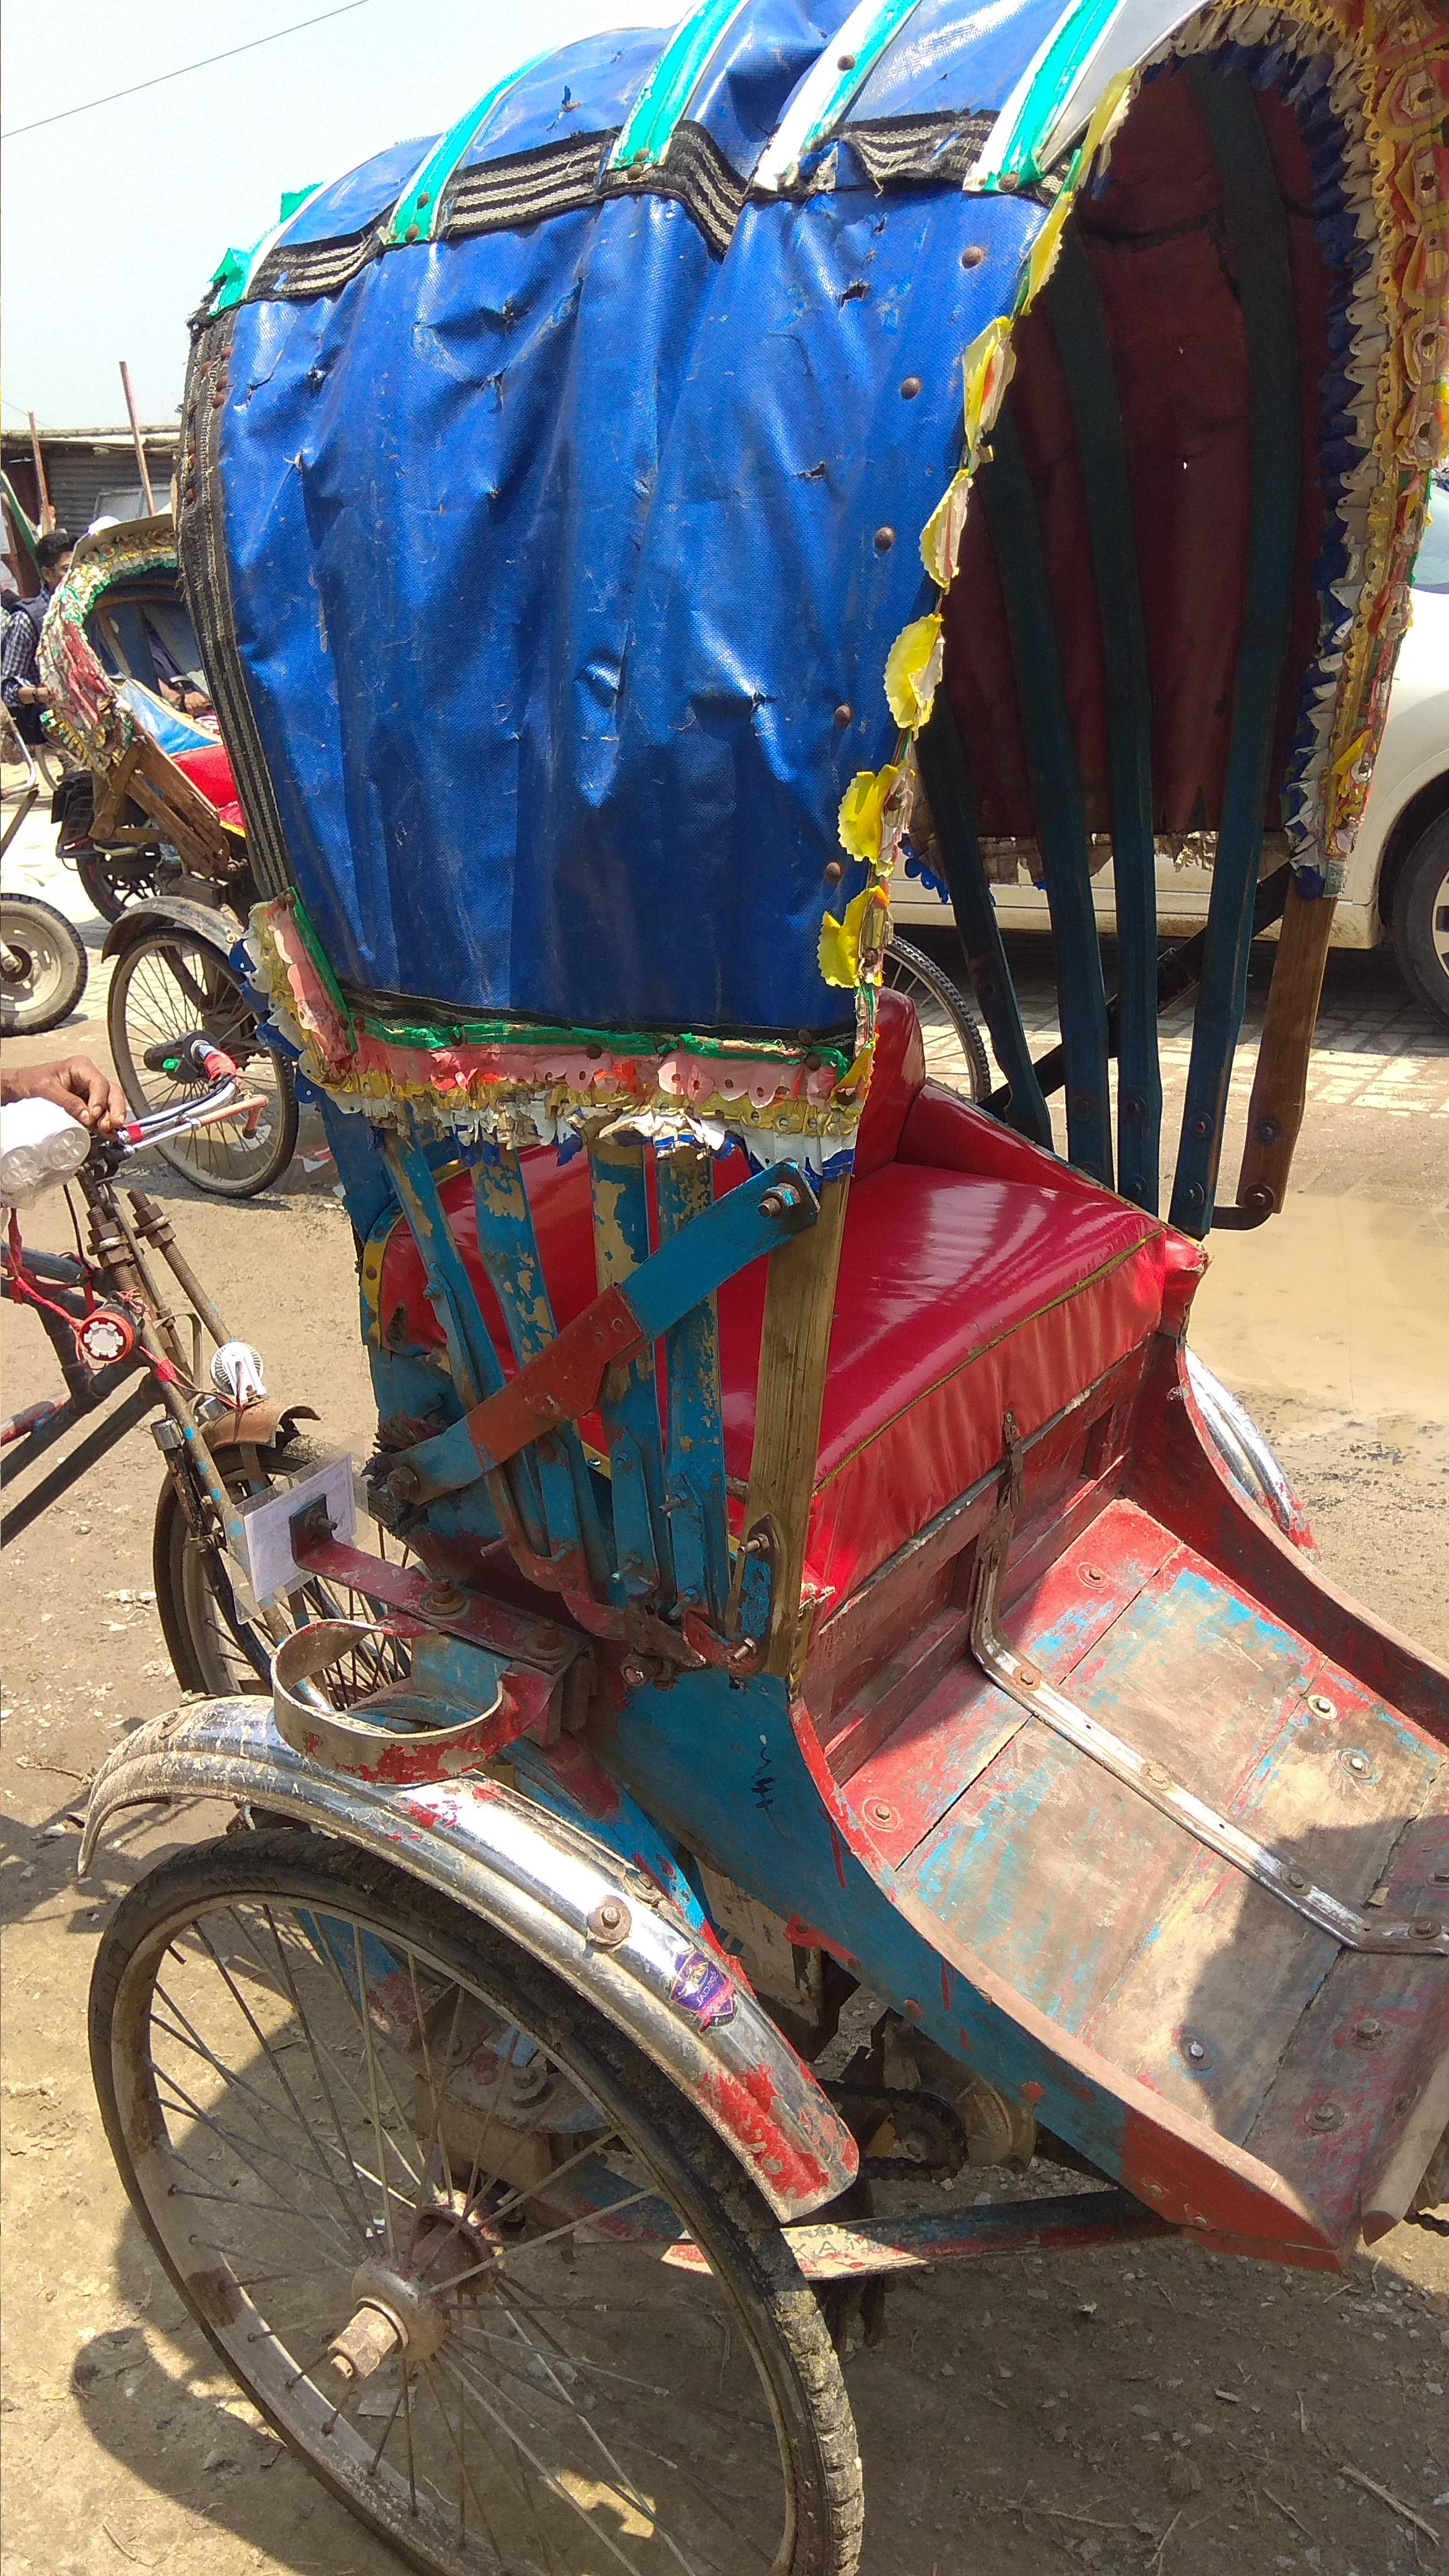Rickshaw: (124, 14, 1437, 2181), (35, 472, 382, 1180)
